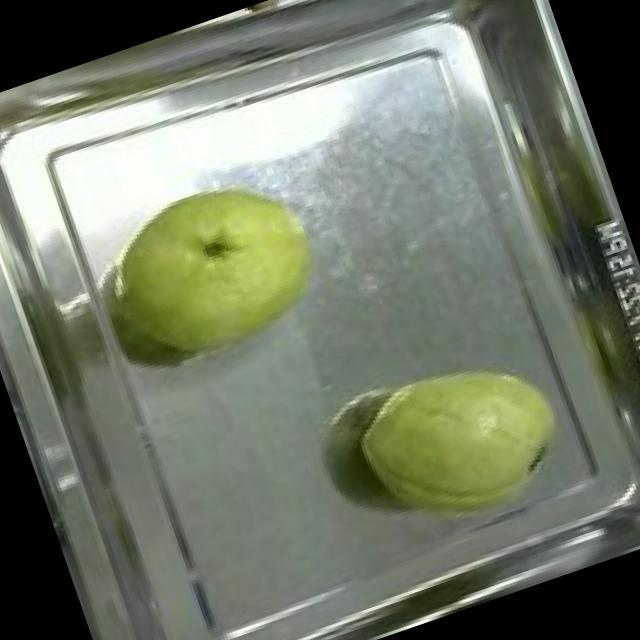Fruit: (329, 323, 597, 567), (83, 153, 345, 394)
